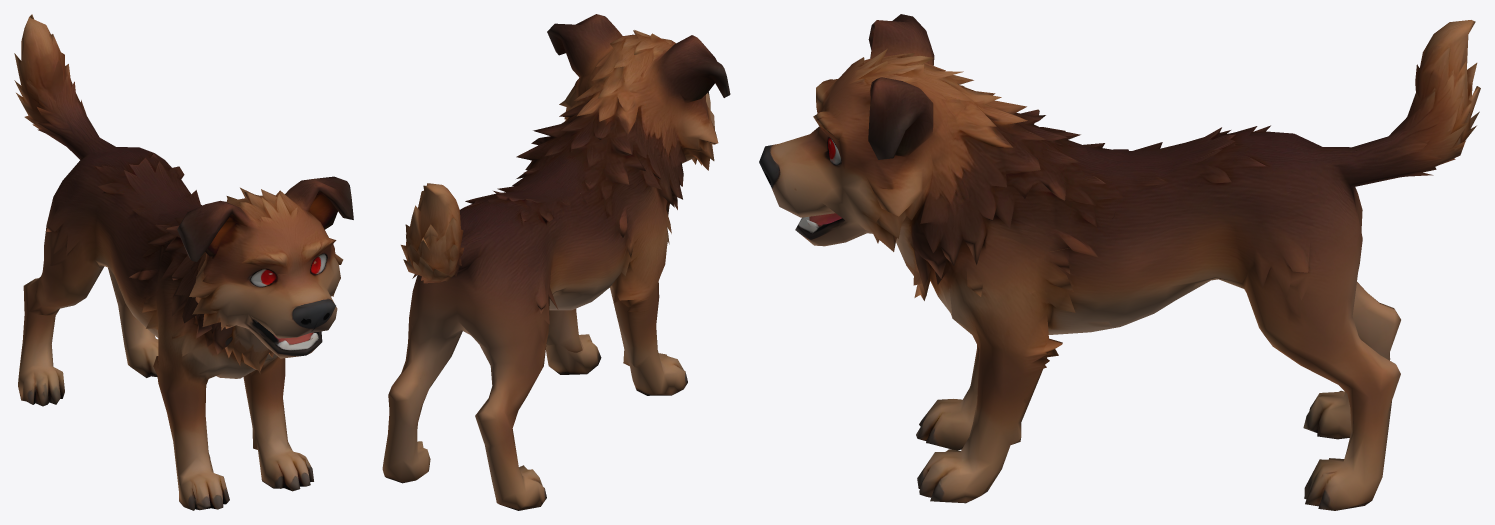
The model's file is dog.glb.
The picture shows the model from 3 angles, left to right: view 1: azimuth 30°, elevation 25°; view 2: azimuth 150°, elevation 25°; view 3: azimuth 270°, elevation 25°; orthographic projection. The views are drawn at different scales.
Parts seen in each view (by area): view 1: tripo_node_6e083586-3b02-4d68-906f-d27a6d367d7f; view 2: tripo_node_6e083586-3b02-4d68-906f-d27a6d367d7f; view 3: tripo_node_6e083586-3b02-4d68-906f-d27a6d367d7f.
Part boxes in pixels (x1,y1,x2,y2): tripo_node_6e083586-3b02-4d68-906f-d27a6d367d7f: [14, 14, 353, 510]; tripo_node_6e083586-3b02-4d68-906f-d27a6d367d7f: [382, 14, 730, 510]; tripo_node_6e083586-3b02-4d68-906f-d27a6d367d7f: [759, 14, 1480, 510].
Bounding box in the file's own units: 0.3617 × 0.6653 × 1.
1 material, 1 textured.
